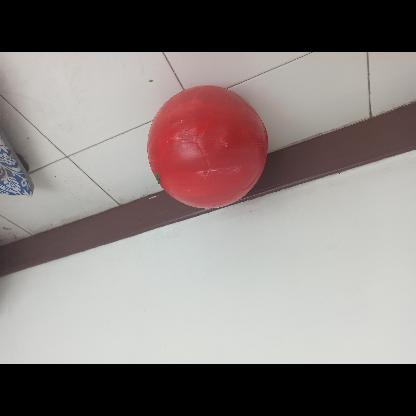red_ball: (146, 88, 270, 212)
